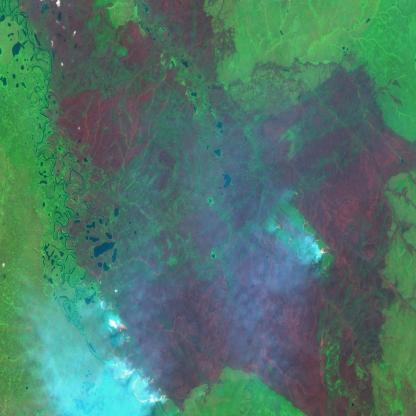fire: (110, 315, 169, 409), (314, 238, 332, 263)
